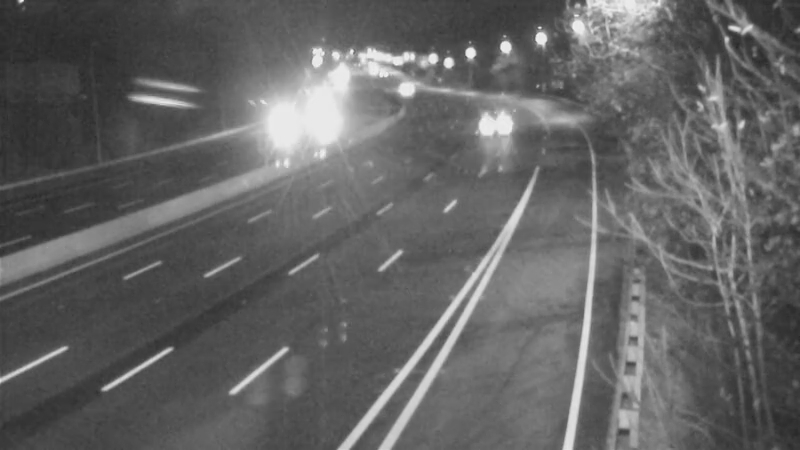vehicle: (378, 63, 428, 113), (463, 104, 513, 154), (255, 101, 305, 151)
